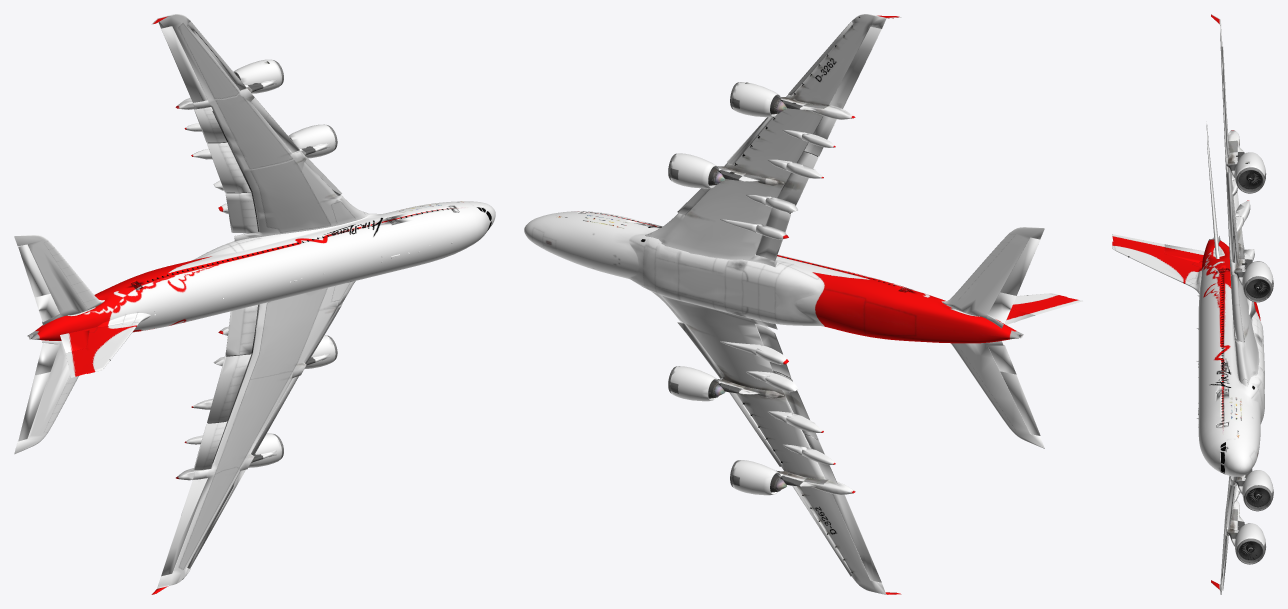
The picture shows the model from 3 angles, left to right: view 1: azimuth 30°, elevation 25°; view 2: azimuth 150°, elevation 25°; view 3: azimuth 270°, elevation 25°; orthographic projection.
Visible parts, largest first — view 1: g 11803_Airplane_body, g 11803_Airplane_wing_R, g 11803_Airplane_wing_L, g 11803_Airplane_tail, g 11803_Airplane_wing_details_L, g 11803_Airplane_wing_details_R; view 2: g 11803_Airplane_body, g 11803_Airplane_wing_L, g 11803_Airplane_wing_details_L, g 11803_Airplane_wing_details_R, g 11803_Airplane_wing_R, g 11803_Airplane_tail; view 3: g 11803_Airplane_body, g 11803_Airplane_wing_details_L, g 11803_Airplane_tail, g 11803_Airplane_wing_details_R, g 11803_Airplane_wing_L, g 11803_Airplane_wing_R.
Boxes of the visible parts, x1,y1,x2,y2 form: g 11803_Airplane_body: (27,201,495,340); g 11803_Airplane_wing_R: (151,281,355,594); g 11803_Airplane_wing_L: (151,14,369,241); g 11803_Airplane_tail: (14,235,150,454); g 11803_Airplane_wing_details_L: (161,21,341,233); g 11803_Airplane_wing_details_R: (161,304,342,576); g 11803_Airplane_body: (524,211,1023,343); g 11803_Airplane_wing_L: (645,14,901,267); g 11803_Airplane_wing_details_L: (668,22,881,261); g 11803_Airplane_wing_details_R: (668,322,881,582); g 11803_Airplane_wing_R: (651,291,901,594); g 11803_Airplane_tail: (941,227,1082,448); g 11803_Airplane_body: (1196,237,1264,476); g 11803_Airplane_wing_details_L: (1221,46,1273,342); g 11803_Airplane_tail: (1112,121,1224,294); g 11803_Airplane_wing_details_R: (1221,469,1273,590); g 11803_Airplane_wing_L: (1211,14,1259,386); g 11803_Airplane_wing_R: (1211,475,1235,594).
Size of the model in its own units: 2844 by 3120 by 808.
6 materials, 6 textured.
